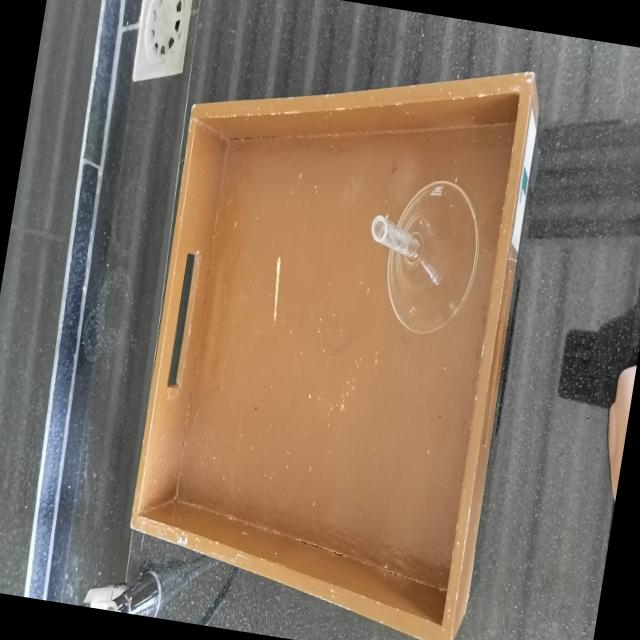funnel: (353, 156, 495, 352)
